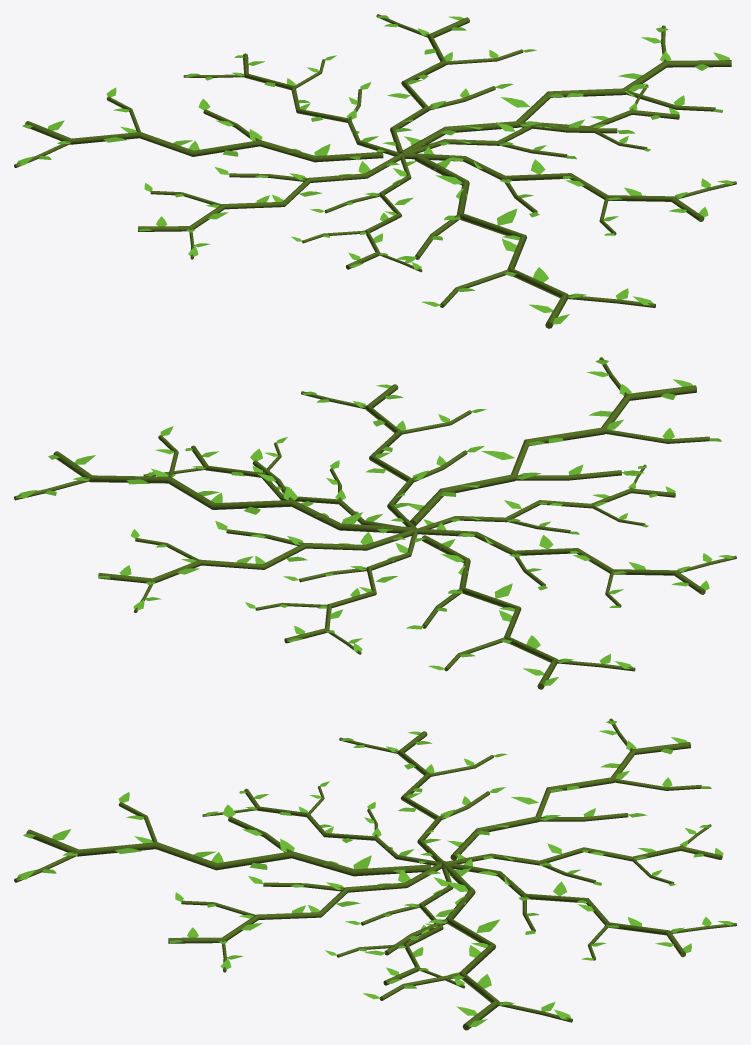
File: VineCluster_LOD0_roblox.fbx
The picture shows the model from 3 angles, top to bottom: view 1: azimuth 30°, elevation 25°; view 2: azimuth 150°, elevation 25°; view 3: azimuth 270°, elevation 25°; orthographic projection. The views are drawn at different scales.
Parts seen in each view (by area): view 1: Vine_1_VineStemMat_001, Vine_3_VineStemMat_001, Vine_2_VineStemMat_001, Vine_Med_3_VineStemMat_001, Vine_Med_2_VineStemMat_001, Vine_Med_1_VineStemMat_001, Vine_Fill_3_VineStemMat_001, Vine_3_VineLeafMat_001, Vine_Fill_1_VineStemMat_001, Vine_Fill_2_VineStemMat_001, Vine_1_VineLeafMat_001, Vine_2_VineLeafMat_001 (+6 smaller); view 2: Vine_3_VineStemMat_001, Vine_1_VineStemMat_001, Vine_Med_1_VineStemMat_001, Vine_2_VineStemMat_001, Vine_Med_2_VineStemMat_001, Vine_Med_3_VineStemMat_001, Vine_Fill_2_VineStemMat_001, Vine_Fill_1_VineStemMat_001, Vine_3_VineLeafMat_001, Vine_Fill_3_VineStemMat_001, Vine_1_VineLeafMat_001, Vine_2_VineLeafMat_001 (+6 smaller); view 3: Vine_3_VineStemMat_001, Vine_1_VineStemMat_001, Vine_2_VineStemMat_001, Vine_Med_3_VineStemMat_001, Vine_Med_1_VineStemMat_001, Vine_Fill_1_VineStemMat_001, Vine_Med_2_VineStemMat_001, Vine_3_VineLeafMat_001, Vine_Fill_3_VineStemMat_001, Vine_1_VineLeafMat_001, Vine_Fill_2_VineStemMat_001, Vine_2_VineLeafMat_001 (+6 smaller).
Part boxes in pixels (box(x1,y1,x2,y2)): Vine_1_VineStemMat_001: box(399, 25, 731, 153); Vine_3_VineStemMat_001: box(414, 154, 655, 328); Vine_2_VineStemMat_001: box(14, 96, 383, 167); Vine_Med_3_VineStemMat_001: box(401, 153, 736, 235); Vine_Med_2_VineStemMat_001: box(138, 153, 401, 259); Vine_Med_1_VineStemMat_001: box(376, 14, 523, 153); Vine_Fill_3_VineStemMat_001: box(408, 84, 679, 157); Vine_3_VineLeafMat_001: box(396, 158, 653, 324); Vine_Fill_1_VineStemMat_001: box(183, 53, 399, 156); Vine_Fill_2_VineStemMat_001: box(302, 155, 422, 272); Vine_1_VineLeafMat_001: box(404, 27, 729, 144); Vine_2_VineLeafMat_001: box(17, 87, 360, 165); Vine_3_VineStemMat_001: box(410, 357, 709, 526); Vine_1_VineStemMat_001: box(14, 435, 415, 533); Vine_Med_1_VineStemMat_001: box(98, 529, 416, 612); Vine_2_VineStemMat_001: box(422, 535, 635, 689); Vine_Med_2_VineStemMat_001: box(416, 528, 736, 607); Vine_Med_3_VineStemMat_001: box(301, 384, 471, 528); Vine_Fill_2_VineStemMat_001: box(418, 464, 675, 533); Vine_Fill_1_VineStemMat_001: box(255, 530, 417, 654); Vine_3_VineLeafMat_001: box(405, 359, 721, 510); Vine_Fill_3_VineStemMat_001: box(143, 442, 400, 526); Vine_1_VineLeafMat_001: box(18, 426, 388, 533); Vine_2_VineLeafMat_001: box(406, 539, 632, 685); Vine_3_VineStemMat_001: box(14, 802, 431, 882); Vine_1_VineStemMat_001: box(380, 860, 572, 1030); Vine_2_VineStemMat_001: box(450, 718, 701, 860); Vine_Med_3_VineStemMat_001: box(168, 862, 441, 972); Vine_Med_1_VineStemMat_001: box(447, 862, 736, 960); Vine_Fill_1_VineStemMat_001: box(446, 824, 722, 883); Vine_Med_2_VineStemMat_001: box(339, 731, 493, 861); Vine_3_VineLeafMat_001: box(17, 792, 405, 879); Vine_Fill_3_VineStemMat_001: box(337, 865, 465, 988); Vine_1_VineLeafMat_001: box(363, 868, 570, 1026); Vine_Fill_2_VineStemMat_001: box(202, 786, 440, 865); Vine_2_VineLeafMat_001: box(447, 720, 711, 846).
Size of the model in its own units: 7.09 by 7.01 by 0.1123.
